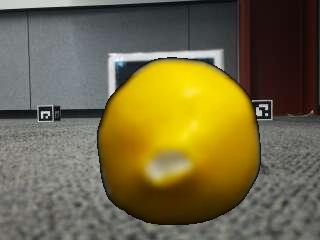lemon: (98, 57, 259, 226)
